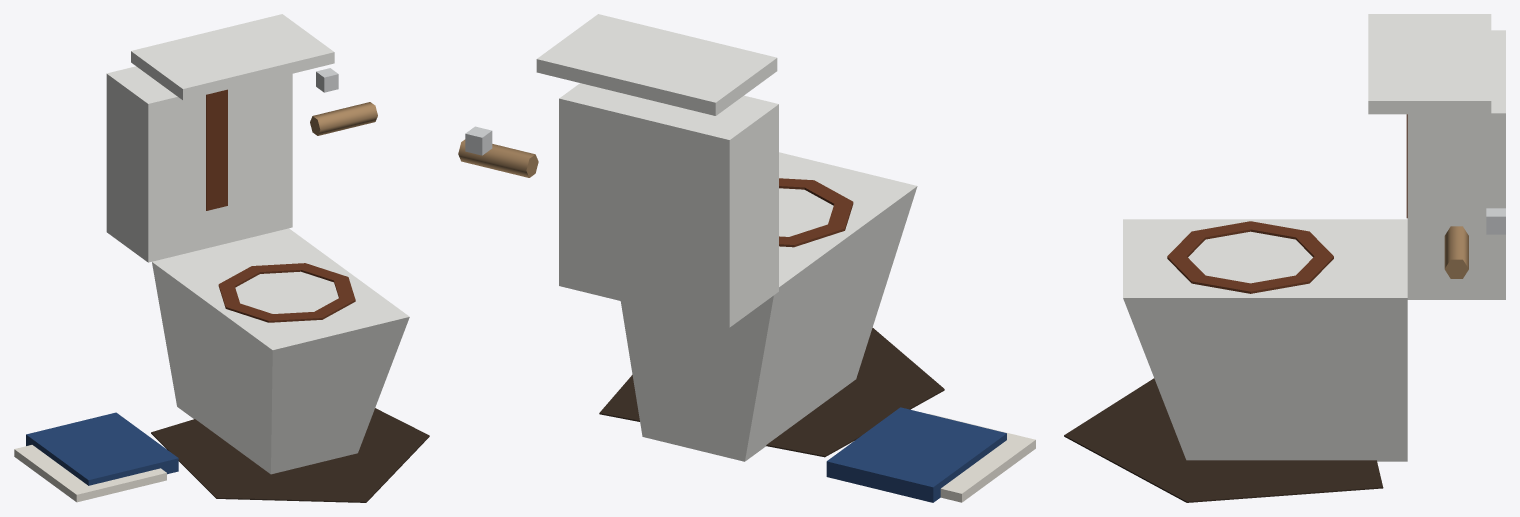
File: toilet_grimy.glb
3 views of the same model, side by side, from view 1: azimuth 30°, elevation 25°; view 2: azimuth 150°, elevation 25°; view 3: azimuth 270°, elevation 25° (orthographic). The views are drawn at different scales.
Parts seen in each view (by area): view 1: toilet_grimy; view 2: toilet_grimy; view 3: toilet_grimy.
Part boxes in pixels (bbox=[...]): toilet_grimy: bbox=[14, 14, 429, 502]; toilet_grimy: bbox=[458, 14, 1035, 502]; toilet_grimy: bbox=[1064, 14, 1505, 502].
Size of the model in its own units: 1.08 by 0.88 by 0.9.
Materials: 1 (1 with a texture image).
